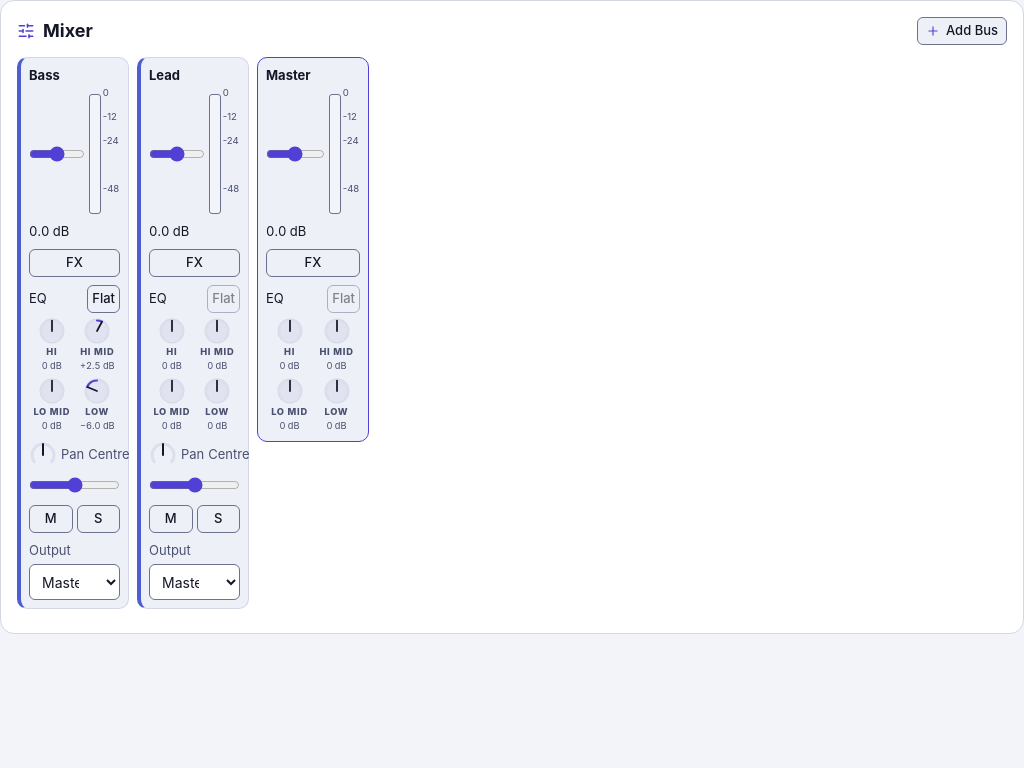
Scenario: an EQ knob reads its gain, goes back to 0 dB on a double-click, and Flat resets every band
This screenshot has width=1024, height=768.
Double-click the slider named "Bass EQ low" at [97, 391], box [83,377,111,405]
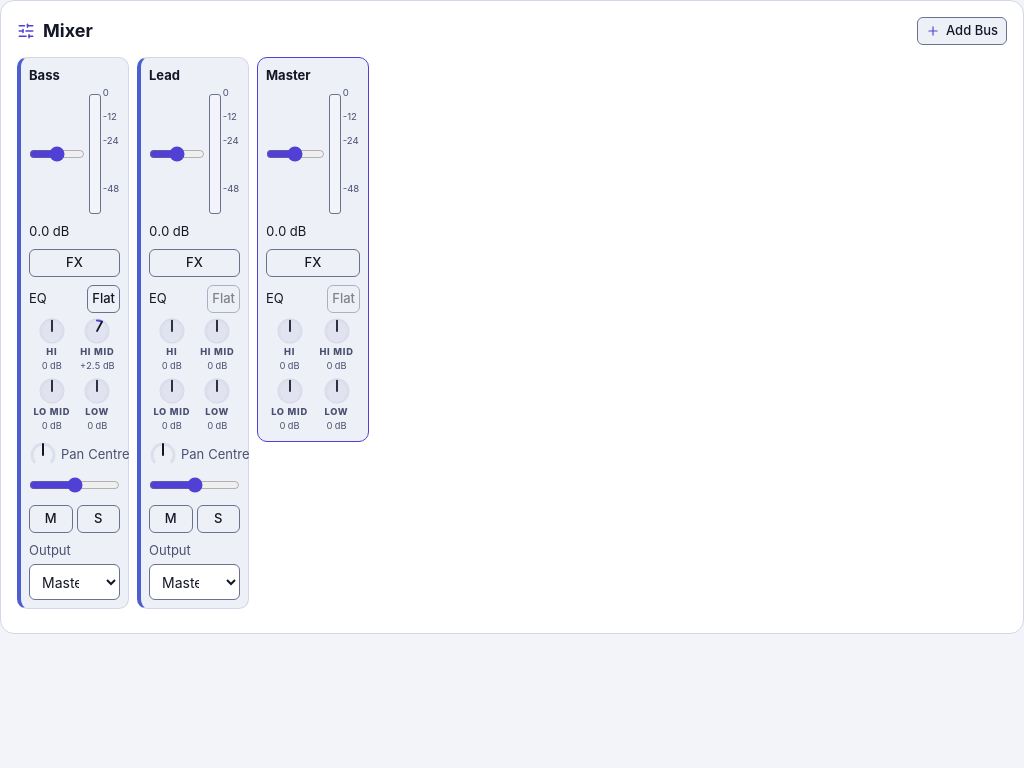
Expected: the button with aria-label "Flatten Lead EQ" is disabled, [207,285,240,313]
Expected: the slider named "Bass EQ low" has attribute aria-valuetext="0 dB", [83,377,111,405]
Click the button with aria-label "Flatten Bass EQ" at [104, 299], box [87,285,120,313]
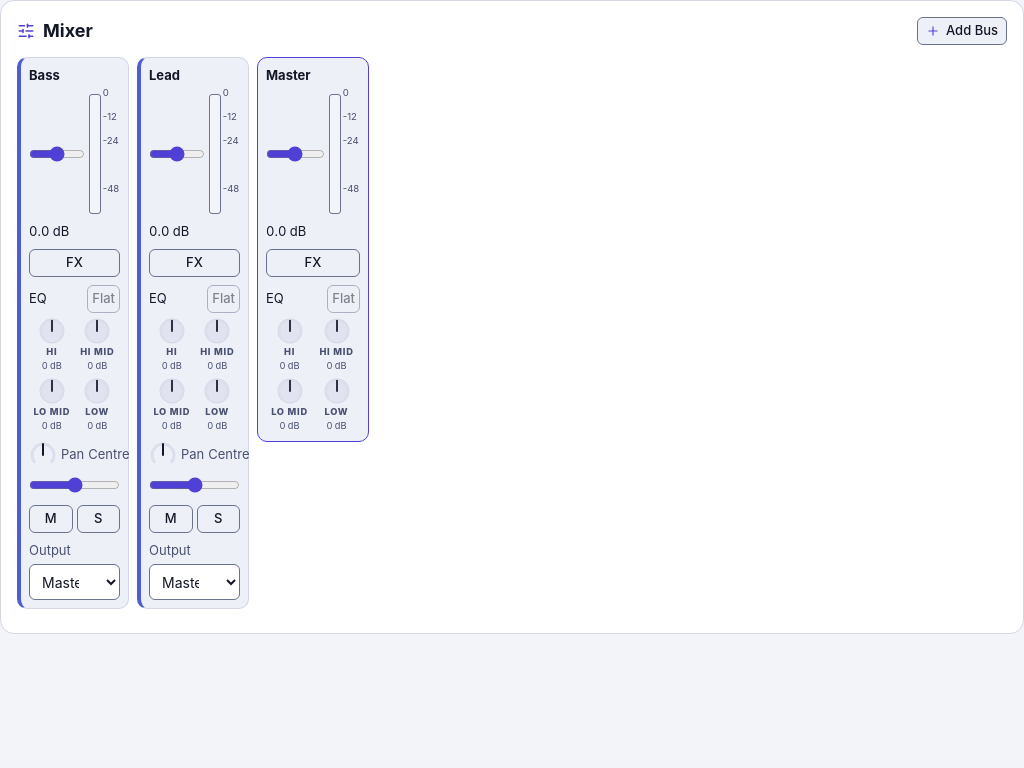
Expected: the button with aria-label "Flatten Bass EQ" is disabled, [87,285,120,313]
